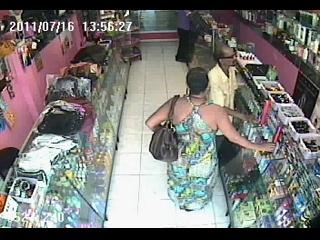Normal: (144, 67, 278, 213), (208, 45, 240, 112), (149, 95, 180, 163), (174, 11, 204, 72)
